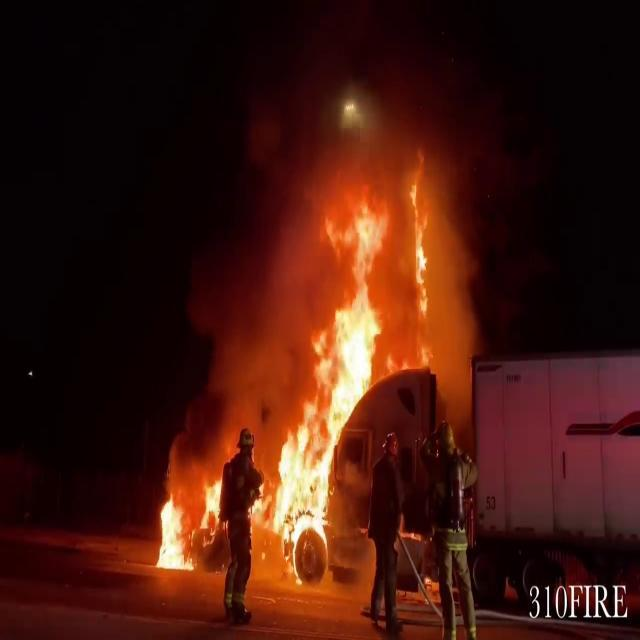Fire: (262, 175, 389, 569), (148, 459, 226, 572), (406, 147, 439, 370)
Smoke: (166, 76, 332, 433)
